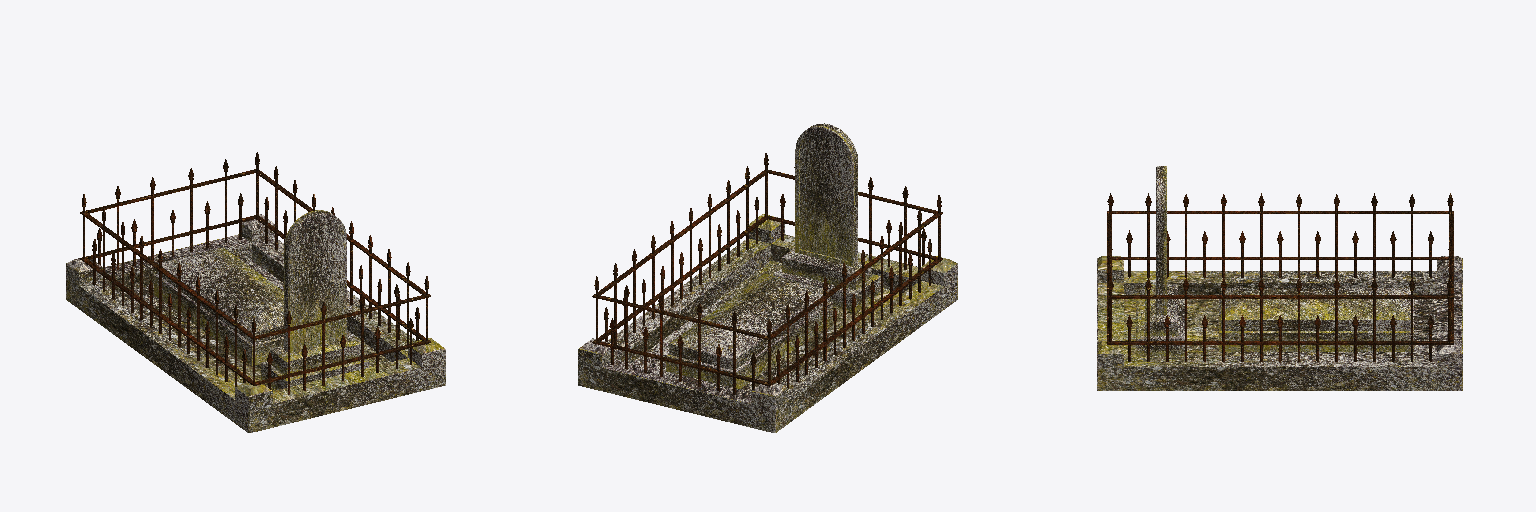
3 renders of one model, left to right at view 1: azimuth 30°, elevation 25°; view 2: azimuth 150°, elevation 25°; view 3: azimuth 270°, elevation 25°, orthographic.
Parts seen in each view (by area): view 1: Box05, fence, Box04, Box01, Box02, Box03; view 2: Box05, fence, Box04, Box01, Box02, Box03; view 3: Box05, fence, Box04, Box01, Box03, Box02.
Part boxes in pixels (x1,y1,x2,y2): Box05: (66, 214, 445, 432); fence: (80, 152, 430, 394); Box04: (154, 247, 283, 365); Box01: (284, 210, 346, 352); Box02: (270, 334, 360, 374); Box03: (261, 359, 368, 389); Box05: (578, 214, 957, 432); fence: (592, 153, 942, 394); Box04: (666, 274, 832, 388); Box01: (795, 123, 857, 266); Box02: (782, 248, 871, 289); Box03: (773, 268, 880, 311); Box05: (1097, 256, 1462, 390); fence: (1107, 193, 1453, 361); Box04: (1219, 288, 1413, 351); Box01: (1156, 166, 1166, 314); Box03: (1136, 299, 1184, 355); Box02: (1145, 284, 1177, 335).
Bounding box in the file's own units: 20.23 × 17.02 × 32.5.
Materials: 2 (2 with a texture image).